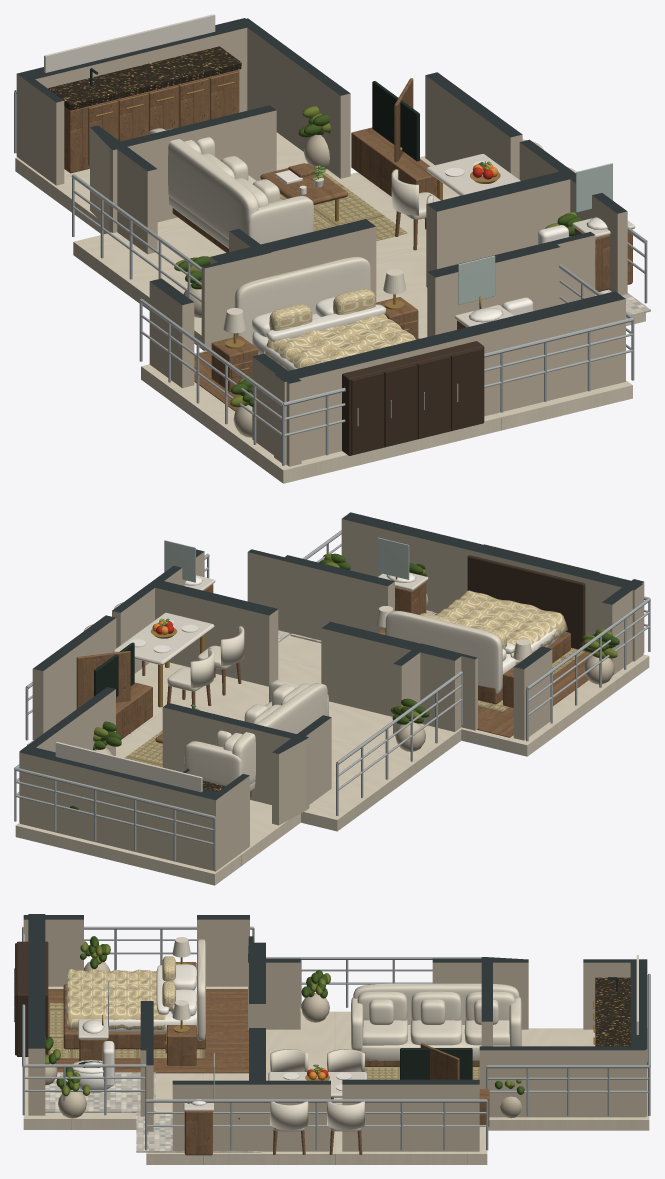
3 views of the same model, one above another, from view 1: azimuth 30°, elevation 25°; view 2: azimuth 150°, elevation 25°; view 3: azimuth 270°, elevation 25° (orthographic). The views are drawn at different scales.
Visible parts, largest first — view 1: Source-traced internal and perimeter walls • Wall, Continuous apartment foundation, Sofa back, Padded headboard, Deep green kitchen stone, Soft jacquard duvet with folds, Walnut media console, Backsplash, Walnut wardrobe door.001, Walnut wardrobe door.002, Walnut wardrobe door.003, Walnut wardrobe door (+28 smaller); view 2: Source-traced internal and perimeter walls • Wall, Continuous apartment foundation, Fitted dark wardrobe, Padded headboard, Soft jacquard duvet with folds, Sofa back, Backsplash, Dining top, Rounded armrest, Full bedroom wood flooring, Oak entrance door, Walnut media console (+15 smaller); view 3: Source-traced internal and perimeter walls • Wall, Continuous apartment foundation, Full bedroom wood flooring, Soft jacquard duvet with folds, Deep green kitchen stone, Bathroom mosaic floor.001, Sofa back, Fitted dark wardrobe, Television, Walnut bed frame, Bedside woven floor rug, Bathroom mosaic floor (+42 smaller).
Part boxes in pixels (<box>): Source-traced internal and perimeter walls • Wall: <box>16,18,627,466</box>; Continuous apartment foundation: <box>15,112,645,483</box>; Sofa back: <box>148,128,258,239</box>; Padded headboard: <box>234,256,370,343</box>; Deep green kitchen stone: <box>48,46,241,107</box>; Soft jacquard duvet with folds: <box>264,314,415,370</box>; Walnut media console: <box>351,127,437,197</box>; Backsplash: <box>44,14,215,72</box>; Walnut wardrobe door.001: <box>417,356,450,438</box>; Walnut wardrobe door.002: <box>384,364,416,447</box>; Walnut wardrobe door.003: <box>351,372,383,455</box>; Walnut wardrobe door: <box>451,348,483,430</box>; Source-traced internal and perimeter walls • Wall: <box>19,512,644,871</box>; Continuous apartment foundation: <box>15,613,649,885</box>; Fitted dark wardrobe: <box>467,544,599,649</box>; Padded headboard: <box>385,610,502,694</box>; Soft jacquard duvet with folds: <box>436,590,567,665</box>; Sofa back: <box>232,683,327,784</box>; Backsplash: <box>55,742,202,792</box>; Dining top: <box>113,612,214,665</box>; Rounded armrest: <box>184,741,243,786</box>; Full bedroom wood flooring: <box>434,613,590,737</box>; Oak entrance door: <box>76,650,130,733</box>; Walnut media console: <box>116,682,152,738</box>; Source-traced internal and perimeter walls • Wall: <box>23,914,647,1151</box>; Continuous apartment foundation: <box>23,986,649,1164</box>; Full bedroom wood flooring: <box>48,989,248,1073</box>; Soft jacquard duvet with folds: <box>66,969,165,1029</box>; Deep green kitchen stone: <box>595,977,630,1046</box>; Bathroom mosaic floor.001: <box>45,1072,155,1112</box>; Sofa back: <box>353,983,519,1024</box>; Fitted dark wardrobe: <box>16,941,48,1056</box>; Television: <box>400,1048,472,1079</box>; Walnut bed frame: <box>63,984,205,1049</box>; Bedside woven floor rug: <box>49,1003,204,1058</box>; Bathroom mosaic floor: <box>136,1112,261,1152</box>.
Bounding box in the file's own units: 6.58 × 1.7 × 9.66.
25 materials, 6 textured.
